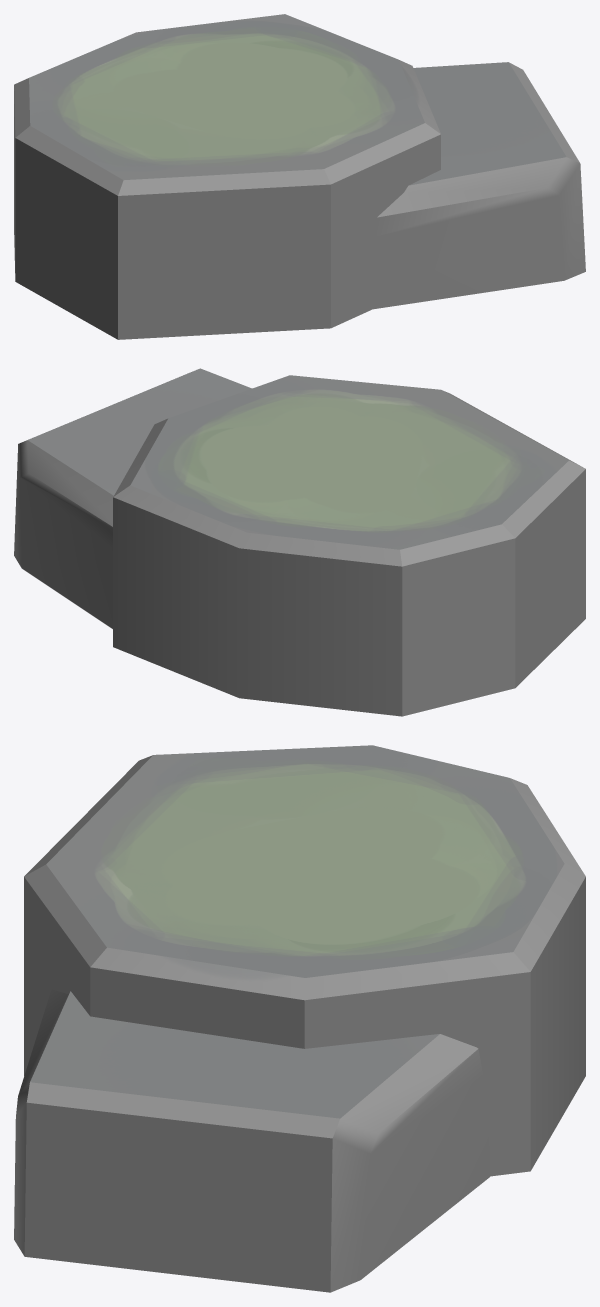
File: Platform_Rock.fbx
The picture shows the model from 3 angles, top to bottom: view 1: azimuth 30°, elevation 25°; view 2: azimuth 150°, elevation 25°; view 3: azimuth 270°, elevation 25°; orthographic projection. The views are drawn at different scales.
Parts seen in each view (by area): view 1: pCylinder2; view 2: pCylinder2; view 3: pCylinder2.
Part boxes in pixels (x1,y1,x2,y2): pCylinder2: (14,14,585,339); pCylinder2: (14,368,585,716); pCylinder2: (14,745,585,1292).
Size of the model in its own units: 373 by 114 by 268.
1 material, 1 textured.
